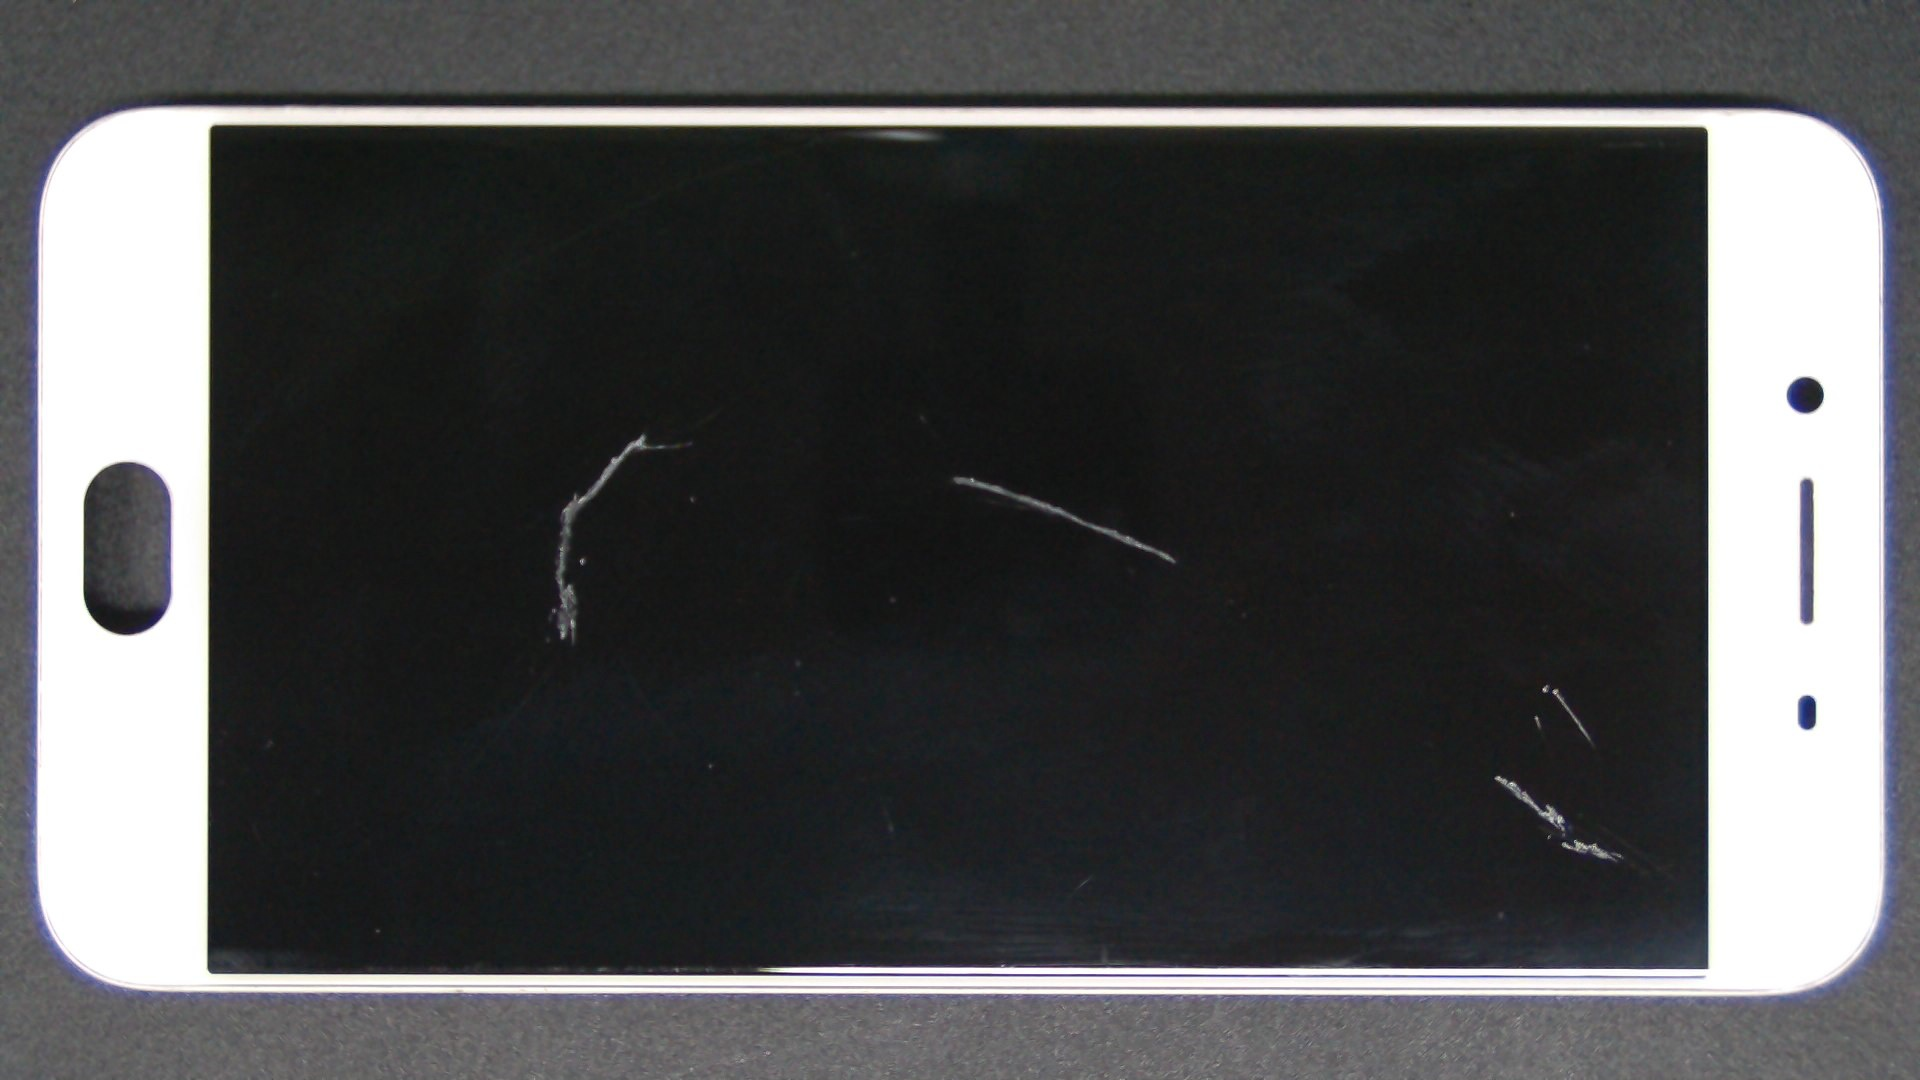oil: (767, 357, 1920, 1073), (749, 386, 1920, 1080), (774, 342, 1920, 1029), (477, 237, 1429, 715), (291, 278, 872, 836), (323, 215, 964, 650)
